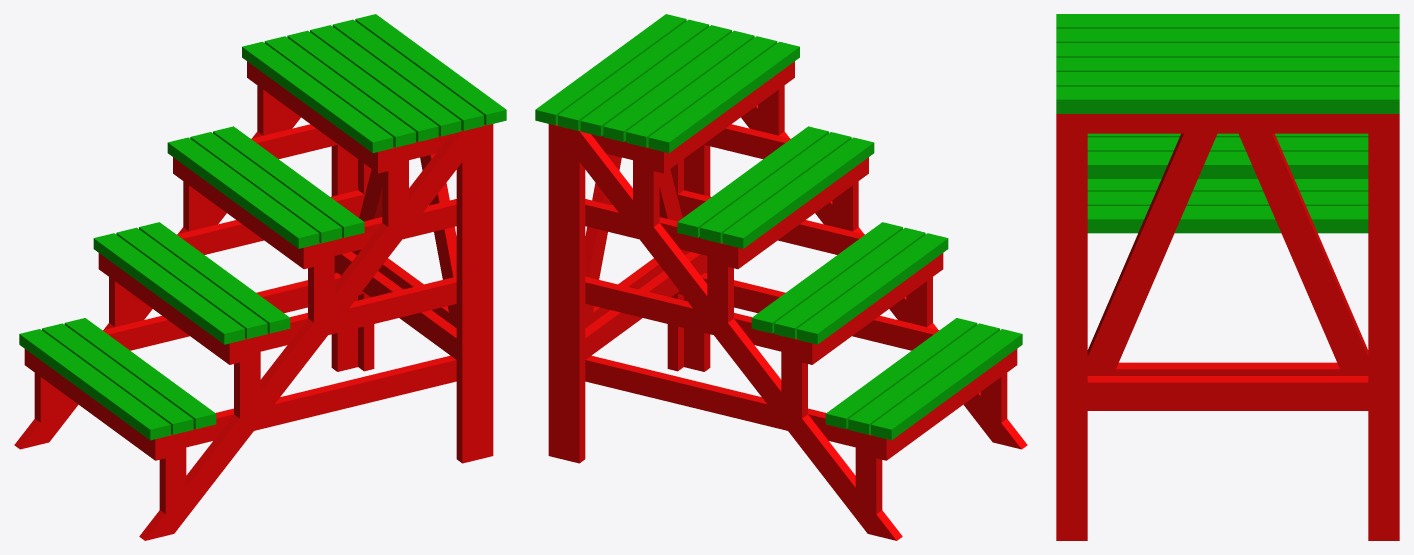
File: result.glb
The picture shows the model from 3 angles, left to right: view 1: azimuth 30°, elevation 25°; view 2: azimuth 150°, elevation 25°; view 3: azimuth 270°, elevation 25°; orthographic projection. The views are drawn at different scales.
Visible parts, largest first — view 1: 390d33fe-170e-49d0-8fb9-deca6e9ccdf0__undefined, fa04616e-4947-4c44-b012-5f377c91b9ff__undefined, f1baa783-aa13-4fe3-897a-419b0cb2cceb__undefined, 041e32fc-b22d-4744-8b8b-201a9db825ee__undefined, 7341344a-80a2-473c-97c8-3f4db72c55fa__undefined, 05b72d2a-f624-4b4f-bd2d-b78df1abc6a2__undefined, 3545bc2c-31da-457f-af70-cf3d3ebd0cf4__undefined, 8c2ace8e-1c15-4f29-a5bf-acd6ab067d1a__undefined, 9f43ae9a-59cb-4214-a282-cf2ee5e54b43__undefined, ef878012-cacc-4b4c-88f8-fd0f3a0a06f1__undefined, 503462c9-ad08-42c3-9d00-fd9f6e0cc841__undefined, a42dbe94-aabf-4278-8025-854910c2dc8c__undefined (+31 smaller); view 2: 806a9ea9-b34b-4a45-9ca7-5a5bf75ef0f5__undefined, b257da7c-de0b-45fb-b127-f0d365c1f1b9__undefined, 8a20416d-bc69-44dd-ad54-dfe1b39eb998__undefined, 041e32fc-b22d-4744-8b8b-201a9db825ee__undefined, 7341344a-80a2-473c-97c8-3f4db72c55fa__undefined, 05b72d2a-f624-4b4f-bd2d-b78df1abc6a2__undefined, 3545bc2c-31da-457f-af70-cf3d3ebd0cf4__undefined, 3e4ba5ed-c4d1-476e-a582-4f483ae313ef__undefined, da9ef793-44c0-4be3-a501-c8b1fc57ceed__undefined, ef878012-cacc-4b4c-88f8-fd0f3a0a06f1__undefined, 503462c9-ad08-42c3-9d00-fd9f6e0cc841__undefined, a42dbe94-aabf-4278-8025-854910c2dc8c__undefined (+32 smaller); view 3: 9f43ae9a-59cb-4214-a282-cf2ee5e54b43__undefined, da9ef793-44c0-4be3-a501-c8b1fc57ceed__undefined, 256f235a-cf92-4c62-8290-d75b62a22e10__undefined, a9a55408-0457-4273-a044-6fa84757c9c9__undefined, b59e19cc-623c-4e1a-814d-15e9f412a298__undefined (×2), 89cbd63f-7e22-47ae-9d17-2ec564272293__undefined, 89c1ea51-0725-4546-a82c-b4ac96bf52b4__undefined, 503462c9-ad08-42c3-9d00-fd9f6e0cc841__undefined, ef878012-cacc-4b4c-88f8-fd0f3a0a06f1__undefined, 3545bc2c-31da-457f-af70-cf3d3ebd0cf4__undefined, 5ae0180f-6784-4bec-892c-c0ee3cd0bc5c__undefined, 41c861e5-7054-410f-99d3-80ebd295df2a__undefined (+7 smaller).
Part boxes in pixels (bbox=[...]): 390d33fe-170e-49d0-8fb9-deca6e9ccdf0__undefined: bbox=[139, 131, 462, 540]; fa04616e-4947-4c44-b012-5f377c91b9ff__undefined: bbox=[456, 126, 482, 463]; f1baa783-aa13-4fe3-897a-419b0cb2cceb__undefined: bbox=[186, 355, 456, 447]; 041e32fc-b22d-4744-8b8b-201a9db825ee__undefined: bbox=[167, 137, 319, 248]; 7341344a-80a2-473c-97c8-3f4db72c55fa__undefined: bbox=[19, 329, 170, 440]; 05b72d2a-f624-4b4f-bd2d-b78df1abc6a2__undefined: bbox=[93, 233, 244, 344]; 3545bc2c-31da-457f-af70-cf3d3ebd0cf4__undefined: bbox=[242, 41, 393, 152]; 8c2ace8e-1c15-4f29-a5bf-acd6ab067d1a__undefined: bbox=[260, 276, 456, 351]; 9f43ae9a-59cb-4214-a282-cf2ee5e54b43__undefined: bbox=[483, 145, 493, 458]; ef878012-cacc-4b4c-88f8-fd0f3a0a06f1__undefined: bbox=[64, 318, 216, 429]; 503462c9-ad08-42c3-9d00-fd9f6e0cc841__undefined: bbox=[139, 222, 290, 333]; a42dbe94-aabf-4278-8025-854910c2dc8c__undefined: bbox=[310, 25, 461, 136]; 806a9ea9-b34b-4a45-9ca7-5a5bf75ef0f5__undefined: bbox=[579, 131, 902, 540]; b257da7c-de0b-45fb-b127-f0d365c1f1b9__undefined: bbox=[559, 126, 585, 463]; 8a20416d-bc69-44dd-ad54-dfe1b39eb998__undefined: bbox=[585, 355, 855, 447]; 041e32fc-b22d-4744-8b8b-201a9db825ee__undefined: bbox=[722, 137, 874, 248]; 7341344a-80a2-473c-97c8-3f4db72c55fa__undefined: bbox=[871, 329, 1022, 440]; 05b72d2a-f624-4b4f-bd2d-b78df1abc6a2__undefined: bbox=[797, 233, 948, 344]; 3545bc2c-31da-457f-af70-cf3d3ebd0cf4__undefined: bbox=[648, 41, 799, 152]; 3e4ba5ed-c4d1-476e-a582-4f483ae313ef__undefined: bbox=[585, 276, 781, 351]; da9ef793-44c0-4be3-a501-c8b1fc57ceed__undefined: bbox=[548, 145, 558, 458]; ef878012-cacc-4b4c-88f8-fd0f3a0a06f1__undefined: bbox=[825, 318, 977, 429]; 503462c9-ad08-42c3-9d00-fd9f6e0cc841__undefined: bbox=[751, 222, 902, 333]; a42dbe94-aabf-4278-8025-854910c2dc8c__undefined: bbox=[580, 25, 731, 136]; 9f43ae9a-59cb-4214-a282-cf2ee5e54b43__undefined: bbox=[1056, 133, 1087, 540]; da9ef793-44c0-4be3-a501-c8b1fc57ceed__undefined: bbox=[1368, 133, 1399, 540]; 256f235a-cf92-4c62-8290-d75b62a22e10__undefined: bbox=[1087, 376, 1368, 410]; a9a55408-0457-4273-a044-6fa84757c9c9__undefined: bbox=[1056, 86, 1399, 113]; b59e19cc-623c-4e1a-814d-15e9f412a298__undefined (×2): bbox=[1087, 133, 1217, 375]; 89cbd63f-7e22-47ae-9d17-2ec564272293__undefined: bbox=[1238, 133, 1368, 375]; 89c1ea51-0725-4546-a82c-b4ac96bf52b4__undefined: bbox=[1056, 114, 1399, 133]; 503462c9-ad08-42c3-9d00-fd9f6e0cc841__undefined: bbox=[1087, 151, 1368, 178]; ef878012-cacc-4b4c-88f8-fd0f3a0a06f1__undefined: bbox=[1087, 206, 1368, 233]; 3545bc2c-31da-457f-af70-cf3d3ebd0cf4__undefined: bbox=[1056, 14, 1399, 28]; 5ae0180f-6784-4bec-892c-c0ee3cd0bc5c__undefined: bbox=[1056, 28, 1399, 42]; 41c861e5-7054-410f-99d3-80ebd295df2a__undefined: bbox=[1056, 43, 1399, 57].
Size of the model in its own units: 878 by 795 by 550.
